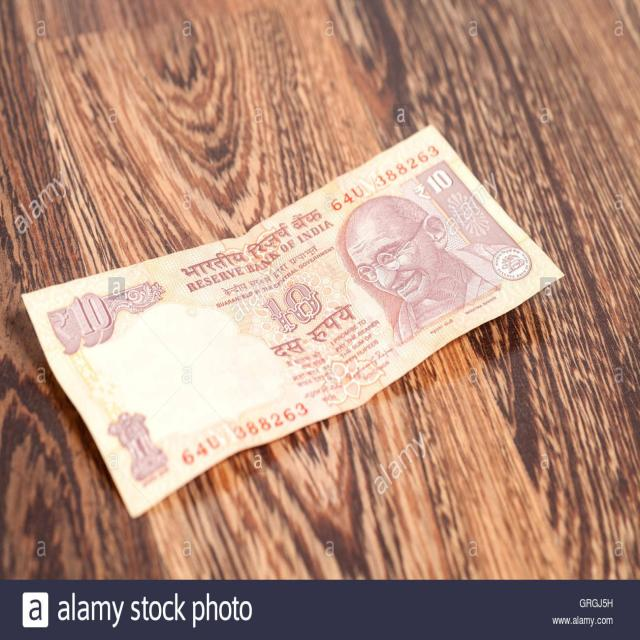10IndianRupees: (23, 116, 567, 515)
